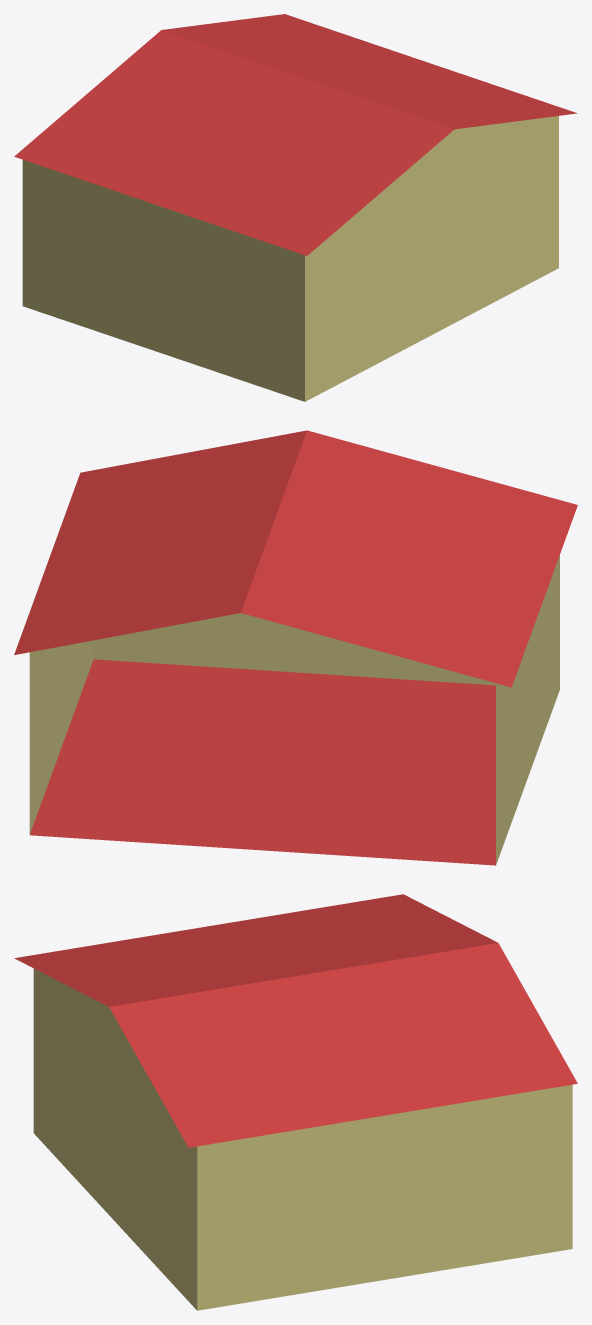
3 renders of one model, top to bottom at view 1: azimuth 30°, elevation 25°; view 2: azimuth 150°, elevation 25°; view 3: azimuth 270°, elevation 25°, orthographic. The views are drawn at different scales.
Size of the model in its own units: 19.87 by 18.67 by 8.24.
